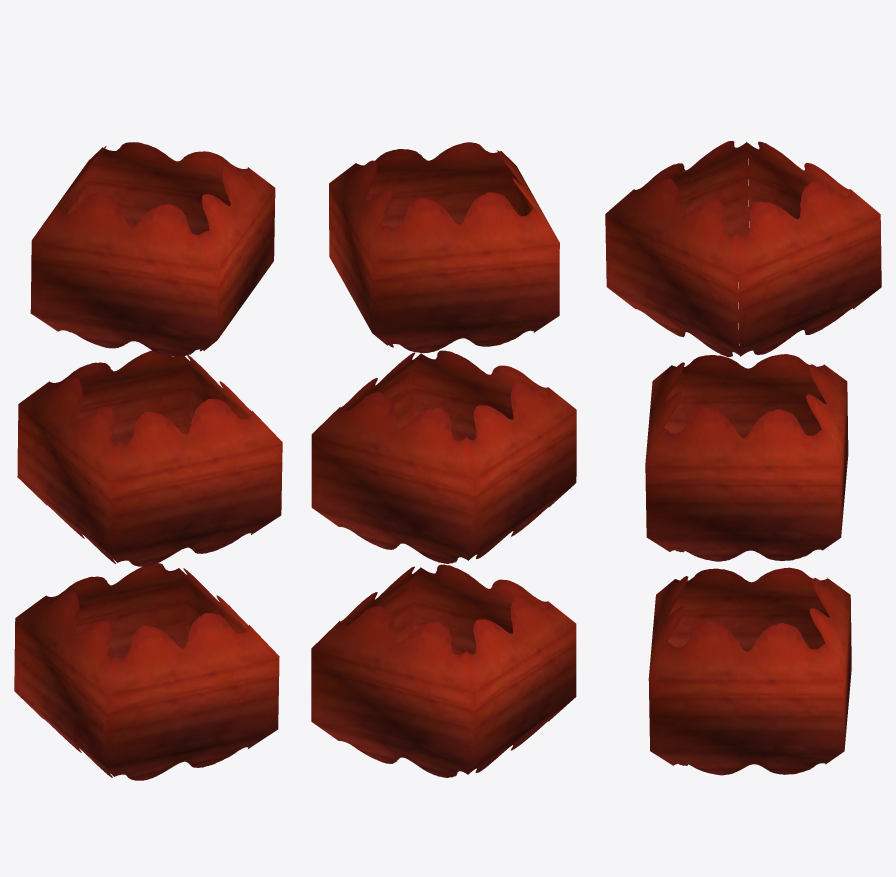
The model's file is environment_Building_qingsangcheng_001_e.FBX.
3 views of the same model, side by side, from view 1: azimuth 30°, elevation 25°; view 2: azimuth 150°, elevation 25°; view 3: azimuth 270°, elevation 25° (orthographic).
Parts seen in each view (by area): view 1: environment_Building_qingsangcheng_001_e; view 2: environment_Building_qingsangcheng_001_e; view 3: environment_Building_qingsangcheng_001_e.
Boxes of the visible parts, x1,y1,x2,y2 form: environment_Building_qingsangcheng_001_e: (14, 142, 282, 780); environment_Building_qingsangcheng_001_e: (311, 142, 576, 777); environment_Building_qingsangcheng_001_e: (605, 140, 881, 775).
Bounding box in the file's own units: 71.75 × 72.1 × 241.
1 material, 1 textured.
